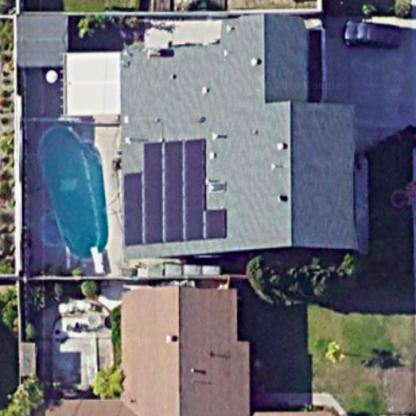car: (336, 16, 402, 54)
solar_panel: (110, 124, 240, 254)
swimming_pool: (35, 111, 111, 267)
